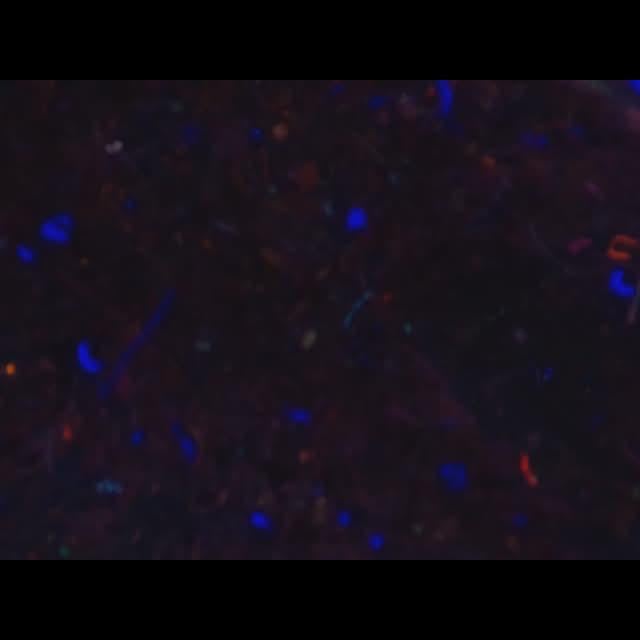Fragment: (520, 454, 538, 488)
